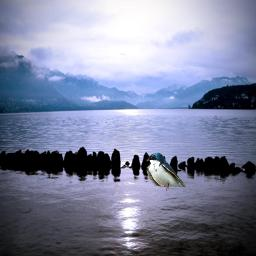Swallow: (146, 152, 186, 193)
